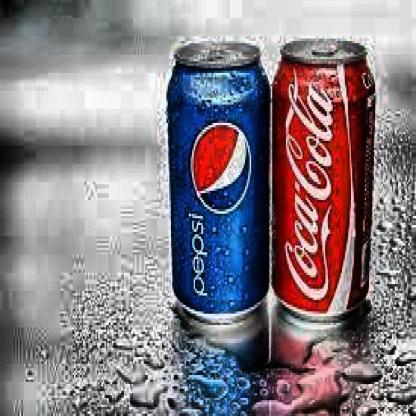Can: (270, 34, 380, 330), (165, 34, 272, 332)
